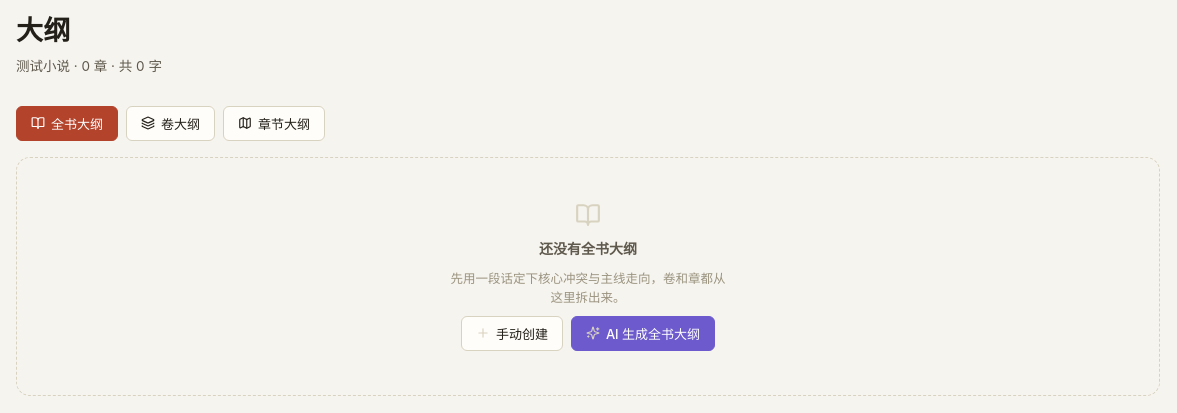
Test: 卷 tab 列出卷卡片并显示章节范围
Step 1. Click the button "卷大纲" → [170, 123], box [126, 106, 215, 141]
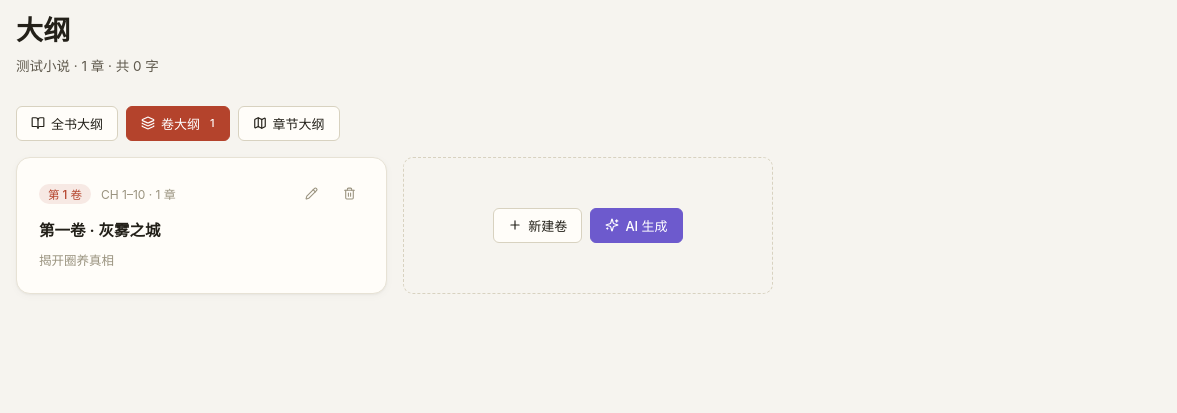
Expected: the text "第一卷 · 灰雾之城" is shown, [39, 222, 160, 239]
Expected: the text "CH 1–10 · 1 章" is shown, [101, 185, 176, 202]
Expected: the text "揭开圈养真相" is shown, [39, 253, 114, 268]
